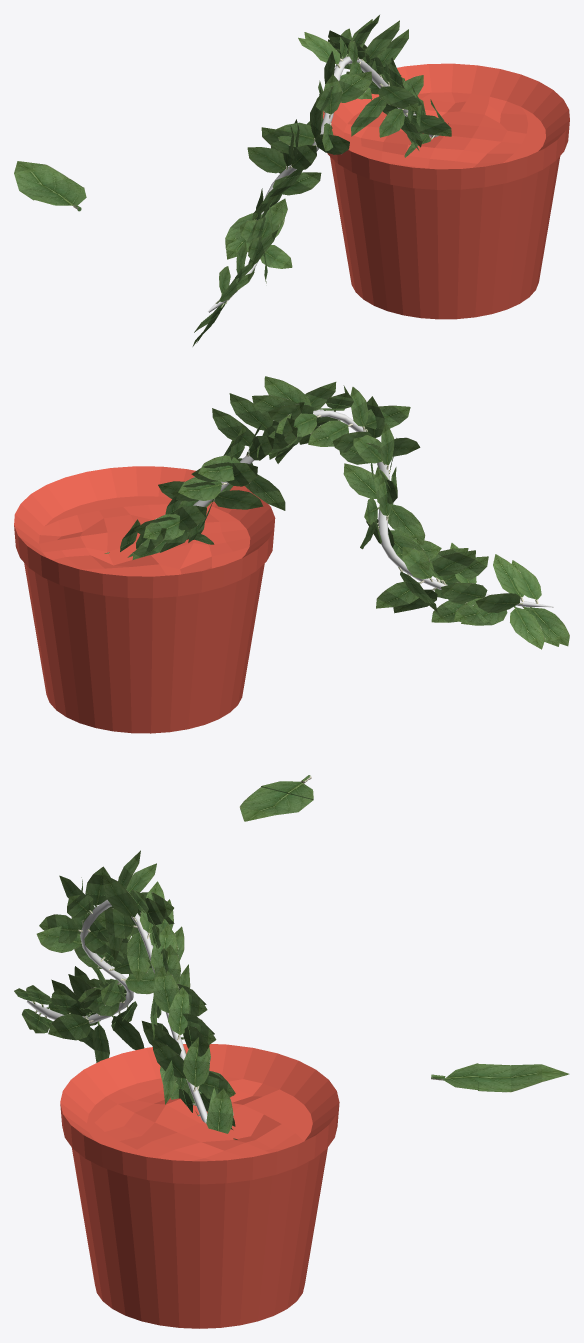
The model's file is space_plant.glb.
The picture shows the model from 3 angles, top to bottom: view 1: azimuth 30°, elevation 25°; view 2: azimuth 150°, elevation 25°; view 3: azimuth 270°, elevation 25°; orthographic projection. The views are drawn at different scales.
Visible parts, largest first — view 1: Cylinder, leaf (×18), Cylinder.018; view 2: Cylinder, leaf (×25), Cylinder.018; view 3: Cylinder, leaf (×13), Cylinder.018.
Part boxes in pixels (x1=…): Cylinder: x1=323, y1=63, x2=569, y2=319; leaf (×18): x1=14, y1=20, x2=451, y2=268; Cylinder.018: x1=208, y1=56, x2=438, y2=312; Cylinder: x1=14, y1=466, x2=275, y2=733; leaf (×25): x1=143, y1=376, x2=569, y2=821; Cylinder.018: x1=193, y1=409, x2=553, y2=607; Cylinder: x1=60, y1=1044, x2=339, y2=1328; leaf (×13): x1=36, y1=874, x2=569, y2=1133; Cylinder.018: x1=27, y1=899, x2=207, y2=1123.
Bounding box in the file's own units: 4.18 × 2.81 × 4.12.
Materials: 3 (1 with a texture image).
